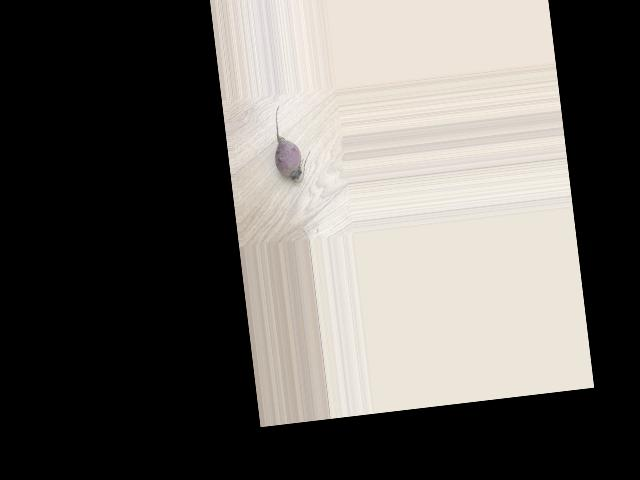beet: (268, 101, 313, 185)
